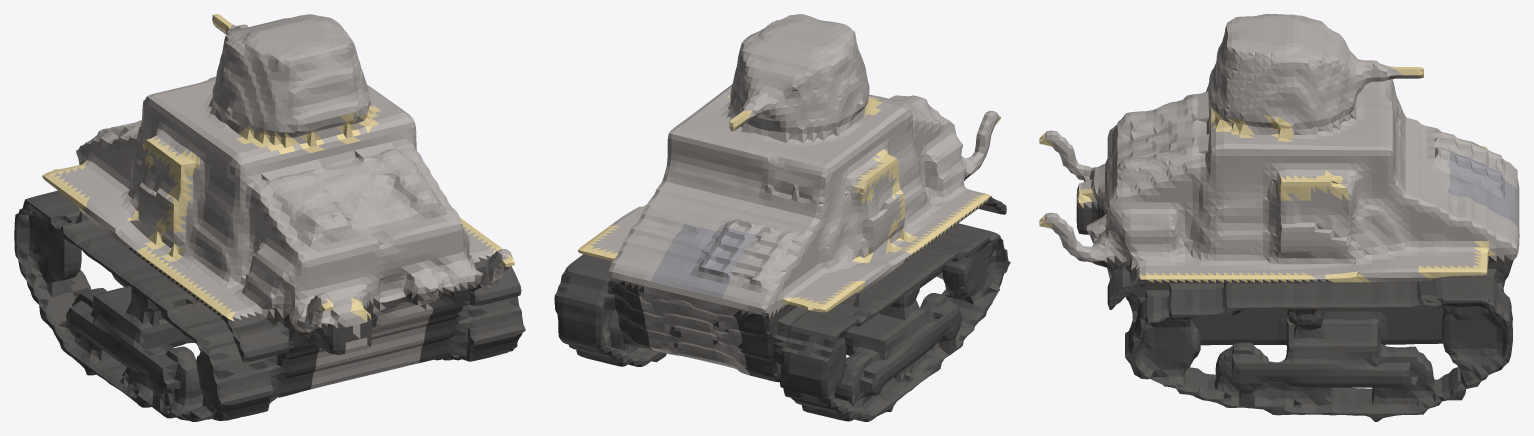
The model's file is unit_rat.glb.
3 renders of one model, left to right at view 1: azimuth 30°, elevation 25°; view 2: azimuth 150°, elevation 25°; view 3: azimuth 270°, elevation 25°, orthographic. The views are drawn at different scales.
Visible parts, largest first — view 1: Mesh_0.008; view 2: Mesh_0.008; view 3: Mesh_0.008.
Boxes of the visible parts, x1=… form: Mesh_0.008: x1=14, y1=14, x2=525, y2=421; Mesh_0.008: x1=554, y1=14, x2=1010, y2=421; Mesh_0.008: x1=1039, y1=14, x2=1519, y2=421.
Bounding box in the file's own units: 1.88 × 2 × 2.7.
